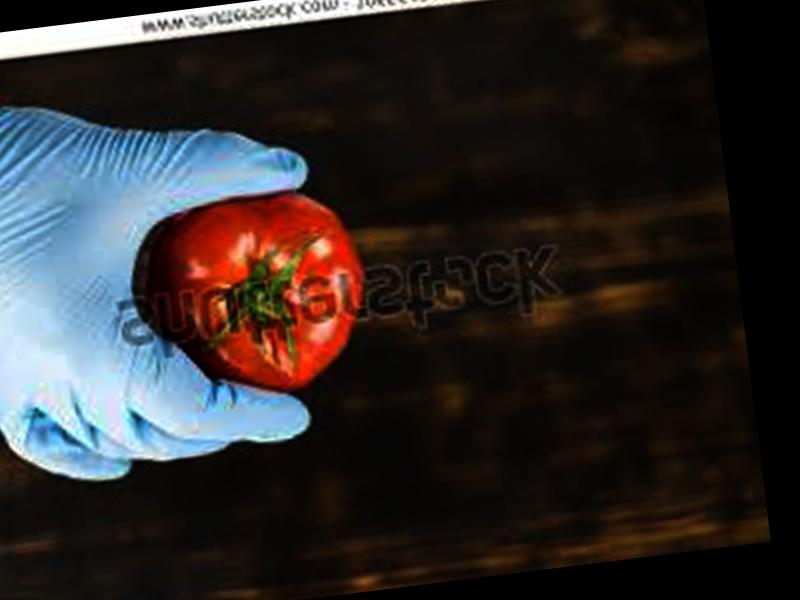Tomato: (134, 181, 379, 407)
